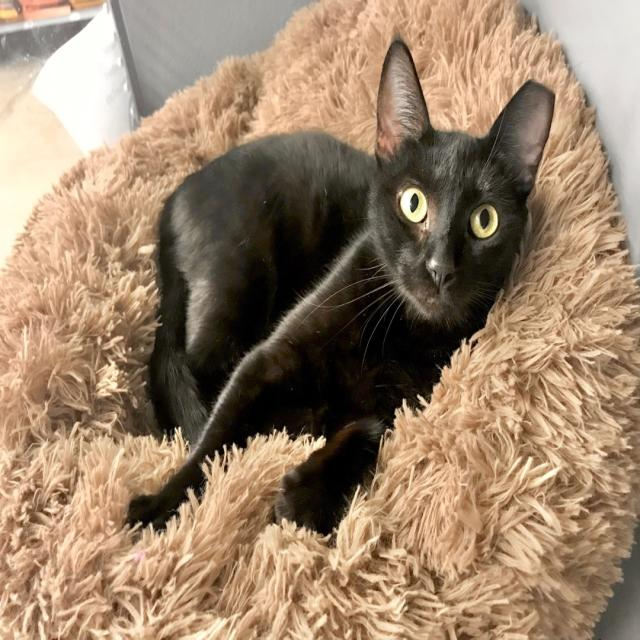american_shorthair_cat: (361, 29, 559, 340)
